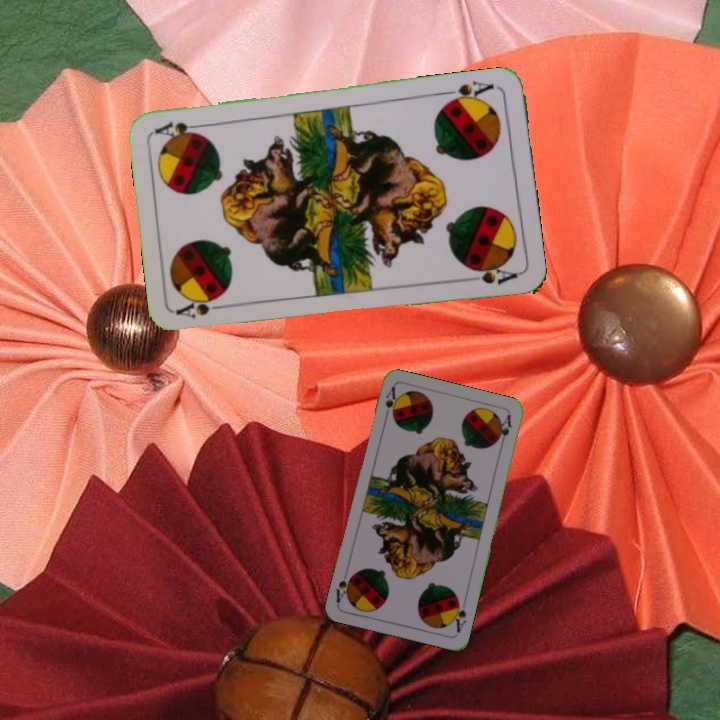SA: (440, 77, 497, 108), (173, 294, 232, 322), (448, 594, 469, 635), (380, 383, 400, 423)
